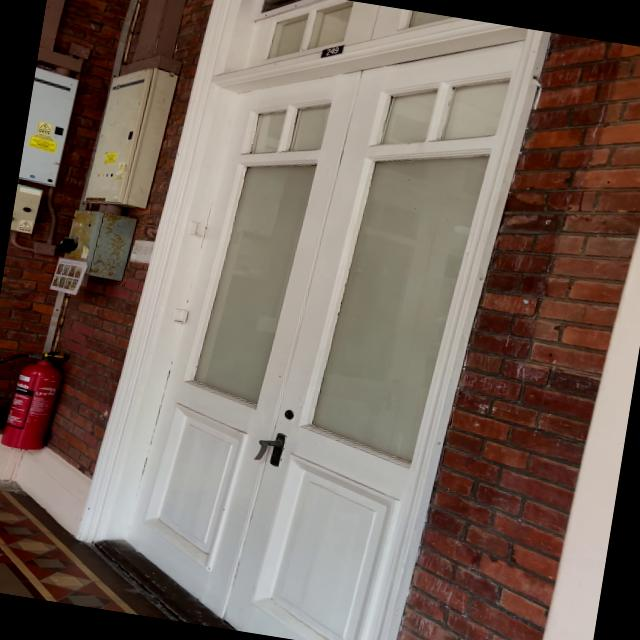room249c: (314, 38, 354, 68)
